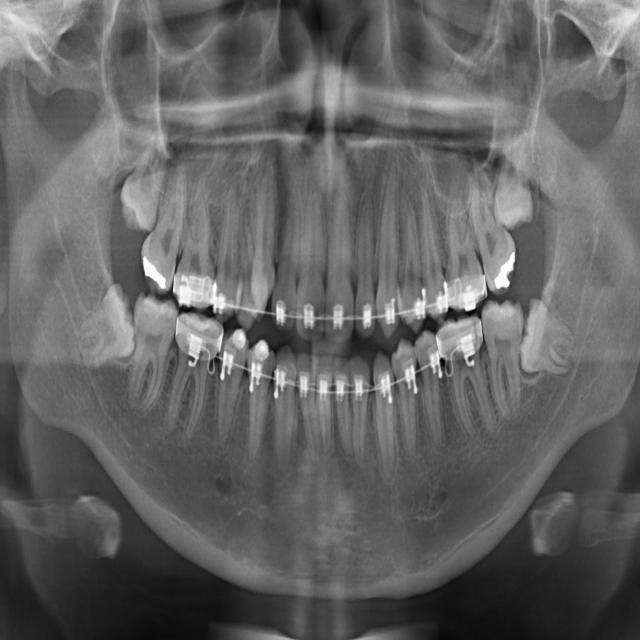AmalgamRestoration: (486, 236, 518, 304), (140, 240, 172, 301)
ImpactedTooth: (72, 276, 138, 369), (116, 145, 172, 238), (518, 293, 574, 379), (496, 129, 538, 234)
